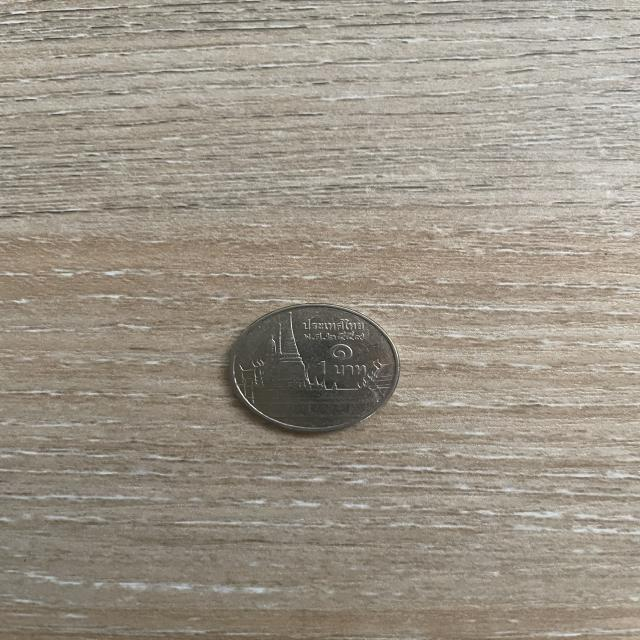1 Bath: (224, 302, 405, 440)
